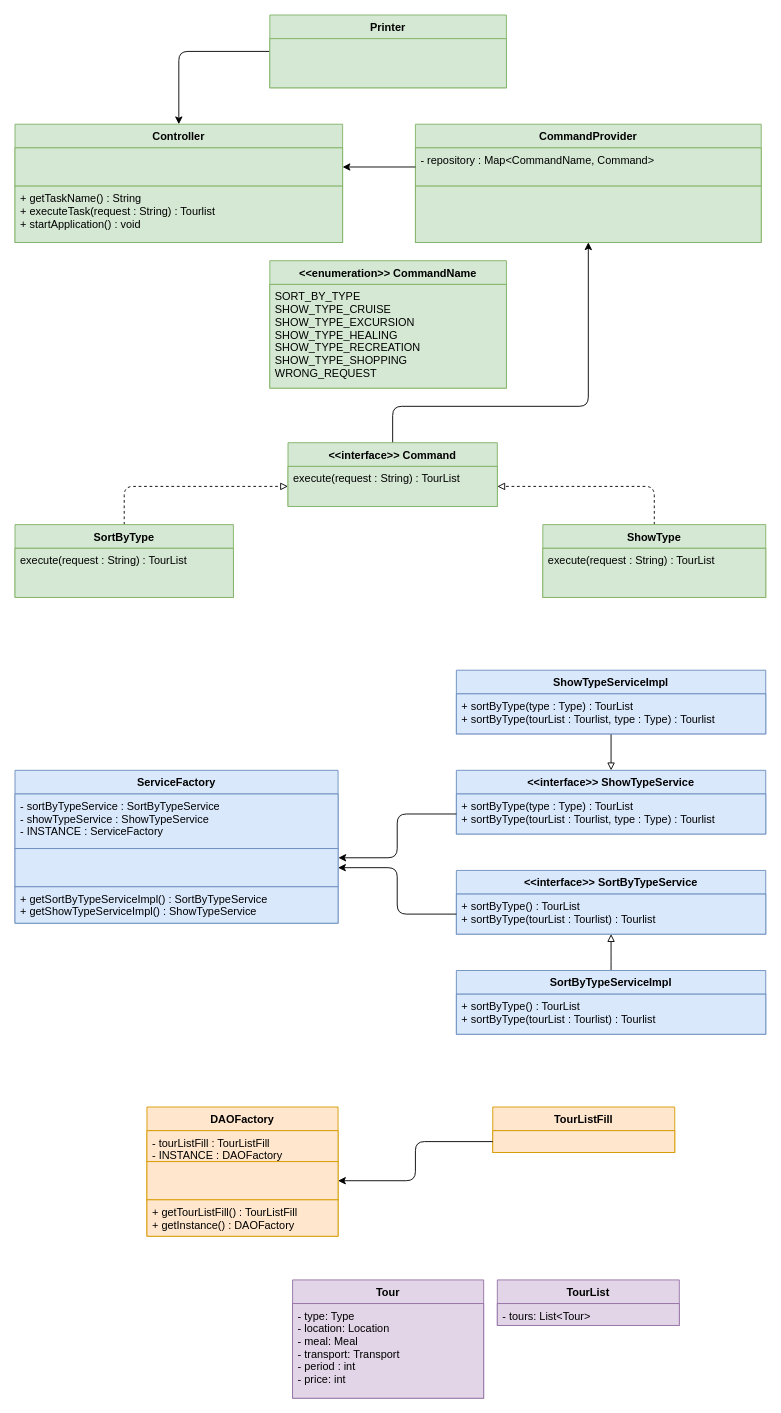
The diagram is 781 pixels wide and 1413 high, and some of its shapes have lost their labels. Each missing label, with the centre of its shape:
+ fill() : TourList: the point at 583,1141
+ printCommands() : void + printResults(tourList : TourList) : void: the point at 387,63
- DAOFactory(): the point at 242,1180
- provider : CommandProvider: the point at 178,166
- ServiceFactory(): the point at 176,867
~ getCommand(name : String) : Command ~ CommandProvider(): the point at 588,214
